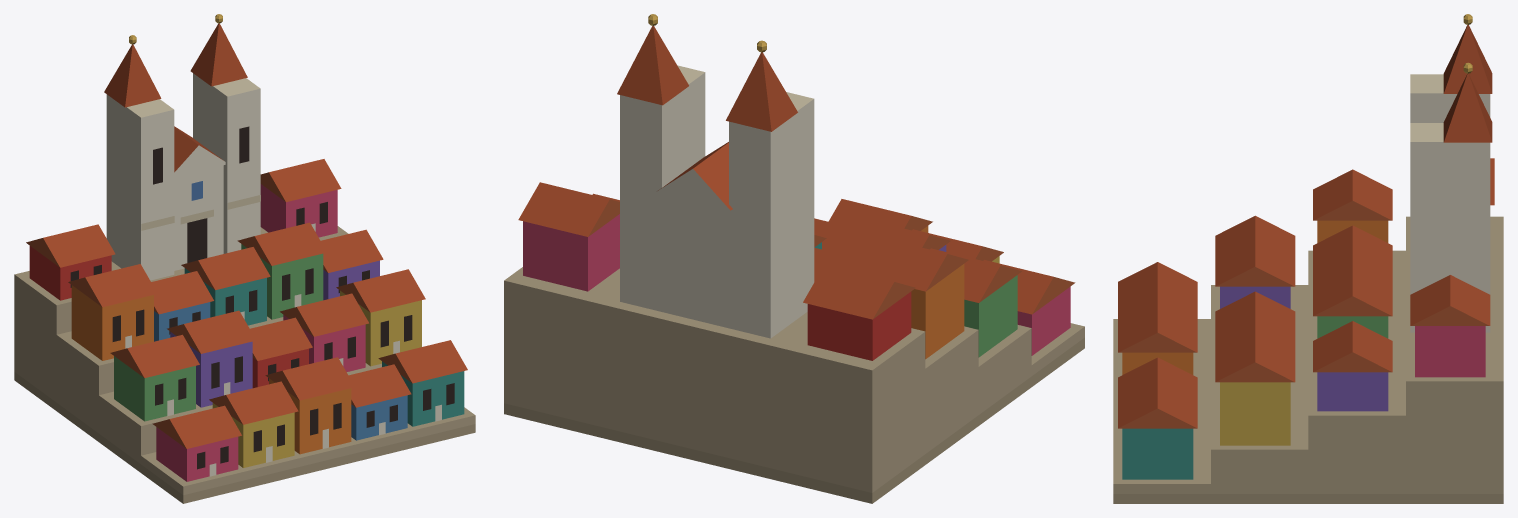
The model's file is pelourinho.glb.
3 views of the same model, side by side, from view 1: azimuth 30°, elevation 25°; view 2: azimuth 150°, elevation 25°; view 3: azimuth 270°, elevation 25° (orthographic). The views are drawn at different scales.
Parts seen in each view (by area): view 1: pelourinho; view 2: pelourinho; view 3: pelourinho.
Boxes of the visible parts, box(x1,y1,x2,y2) form: pelourinho: box(14, 14, 475, 503); pelourinho: box(504, 14, 1084, 503); pelourinho: box(1113, 14, 1503, 503).
Bounding box in the file's own units: 1.76 × 1.9 × 1.76.
